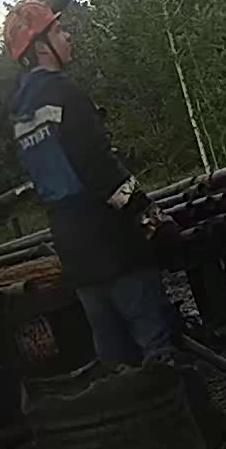gloves: (134, 199, 182, 258)
helmet: (3, 0, 61, 61)
vest: (6, 69, 131, 259)
